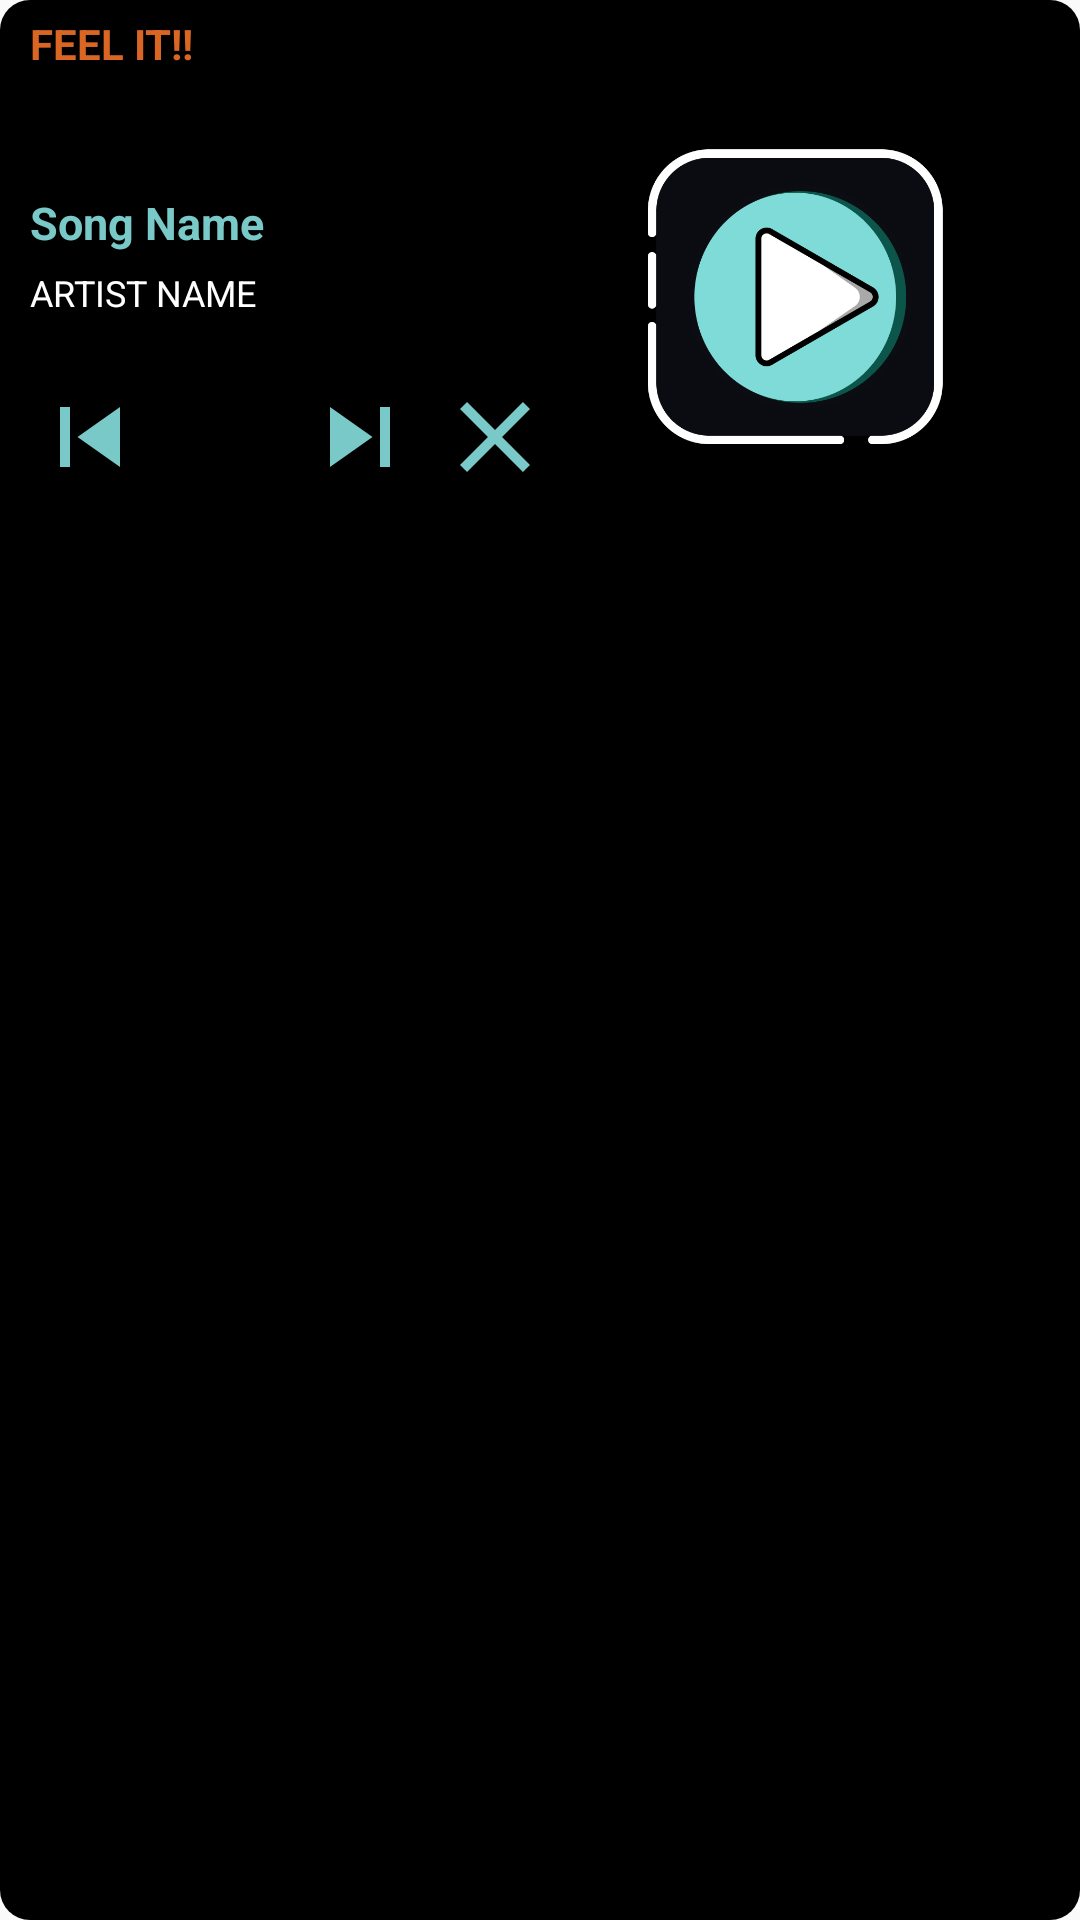

Named icons in this screenshot (1080 x 1920) and their bounding boxes, [x1,y1,x2,y2]:
close: [460,402,530,472]
skip to next: [330,407,390,467]
skip to previous: [60,407,120,467]
